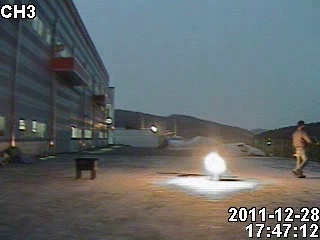fire: (204, 152, 227, 174)
